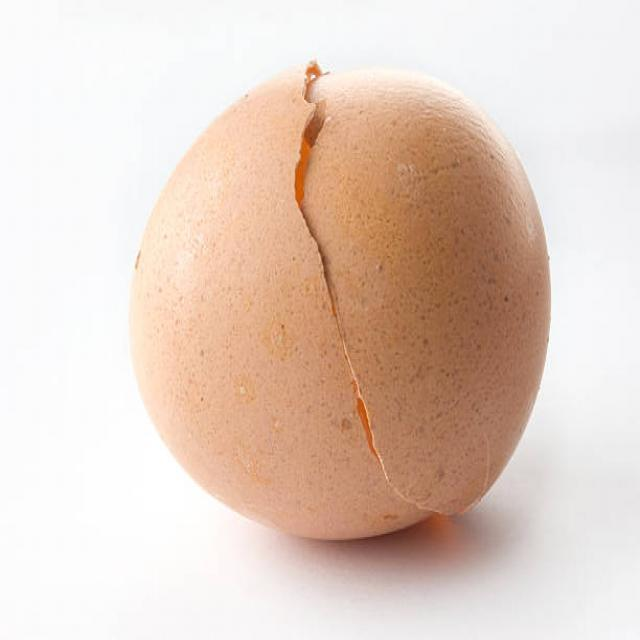biodegradable: (131, 59, 552, 542)
